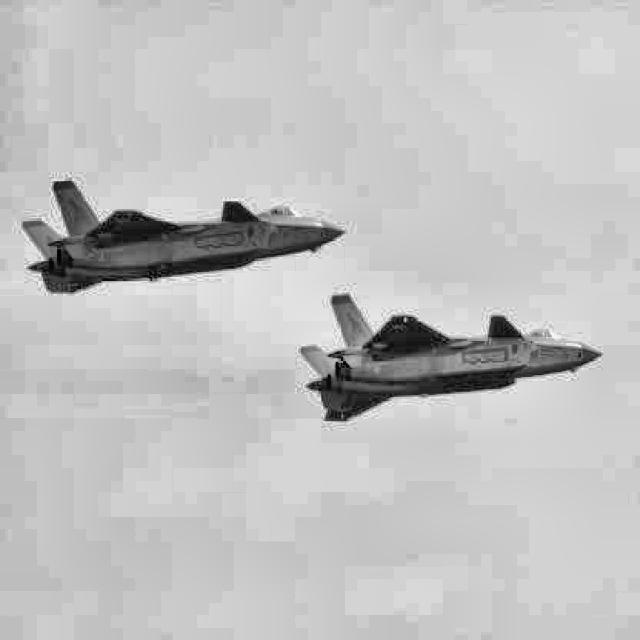J20: (299, 293, 603, 422), (22, 178, 346, 294)
